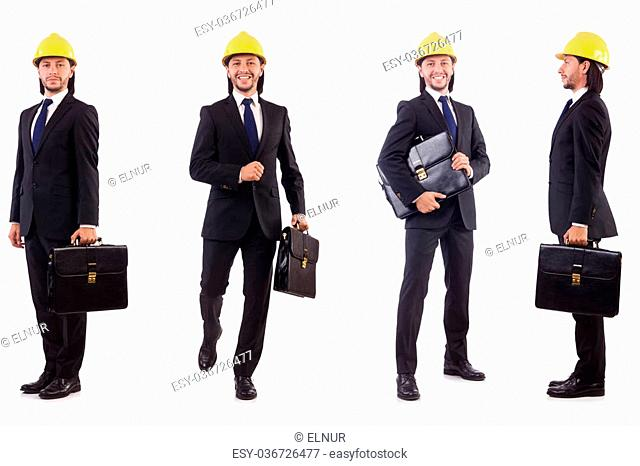Person_wearing_helmet: (216, 25, 269, 75), (29, 25, 78, 71)
